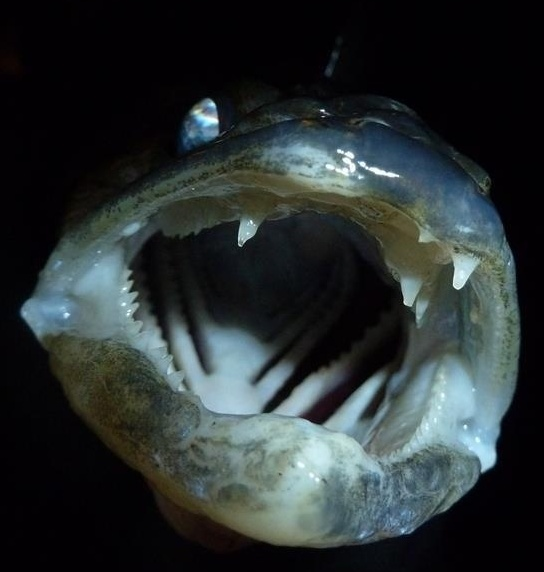Sander lucioperca: (20, 20, 524, 552)
